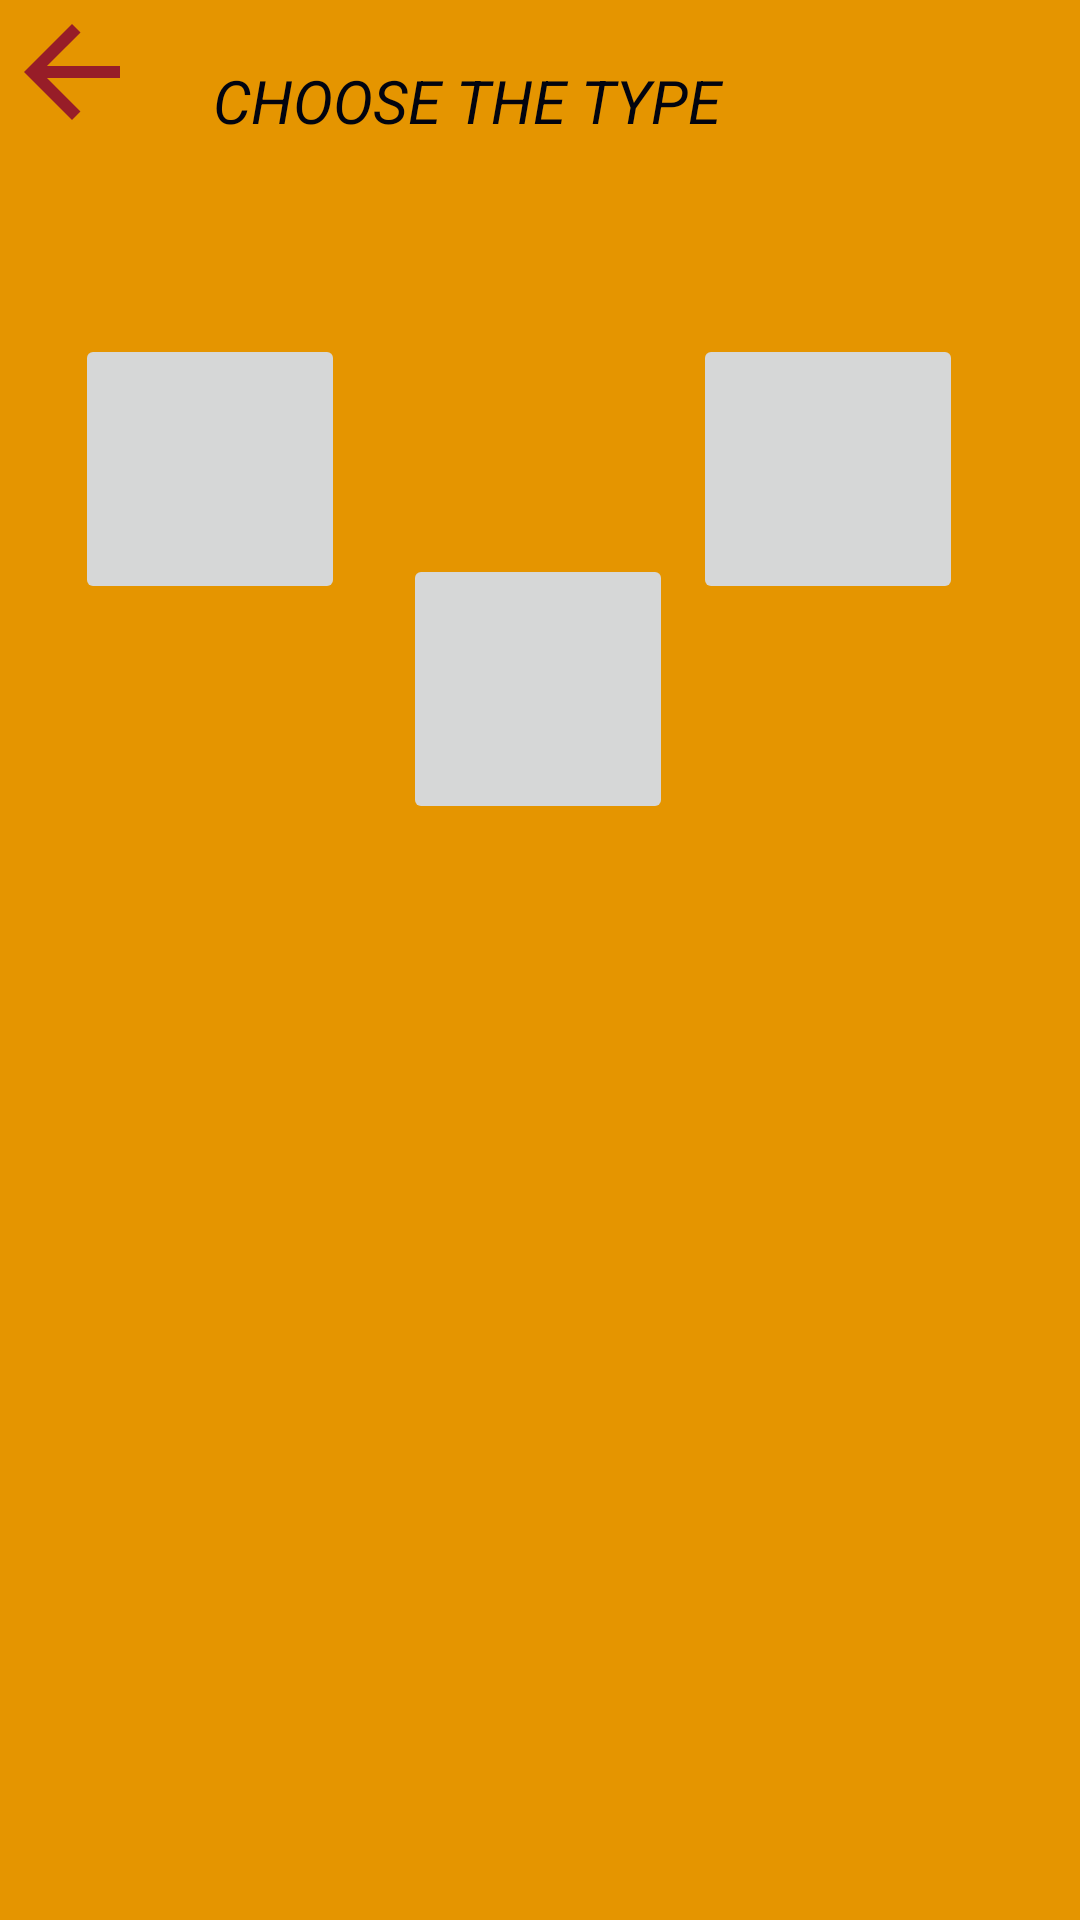

Screen size 1080px x 1920px. Icon name, then its center in pixels as point (x, y):
back arrow: point (72, 72)
